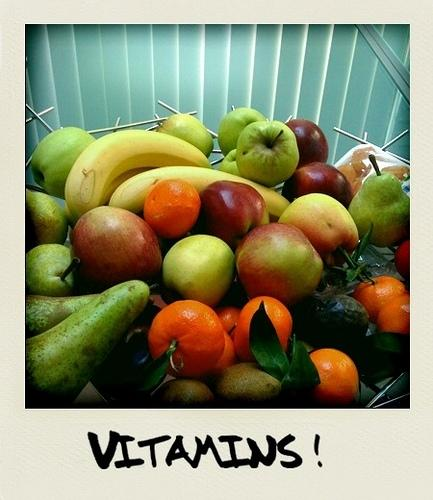apple: (70, 205, 162, 289), (234, 222, 322, 304), (189, 180, 270, 256), (278, 194, 359, 268), (162, 234, 236, 310), (31, 126, 97, 200), (236, 120, 300, 188), (281, 162, 354, 210), (156, 114, 214, 158), (218, 108, 268, 158), (284, 120, 328, 170), (217, 148, 243, 178)
banana: (65, 130, 214, 222), (108, 165, 292, 223)
pear: (26, 279, 158, 409), (348, 154, 410, 248), (236, 120, 300, 188), (25, 294, 101, 340), (26, 243, 81, 297), (217, 148, 276, 192), (215, 362, 280, 400), (25, 188, 68, 244), (146, 378, 214, 408)
